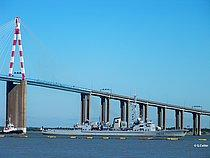MIL_Ship: (39, 109, 190, 138)
